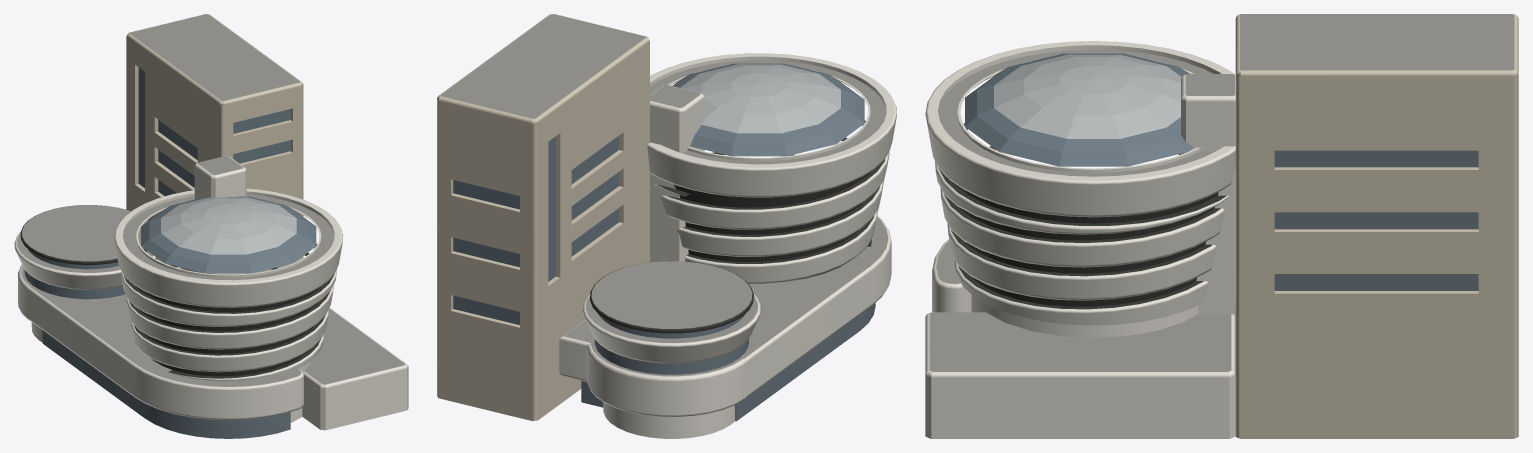
File: guggenheim-museum.glb
3 views of the same model, side by side, from view 1: azimuth 30°, elevation 25°; view 2: azimuth 150°, elevation 25°; view 3: azimuth 270°, elevation 25° (orthographic). The views are drawn at different scales.
Visible parts, largest first — view 1: Solomon R. Guggenheim Museum; view 2: Solomon R. Guggenheim Museum; view 3: Solomon R. Guggenheim Museum.
Part boxes in pixels (box(x1,y1,x2,y2)): Solomon R. Guggenheim Museum: box(14, 14, 408, 438); Solomon R. Guggenheim Museum: box(437, 14, 896, 438); Solomon R. Guggenheim Museum: box(925, 14, 1518, 438).
Bounding box in the file's own units: 39 × 41.6 × 61.
